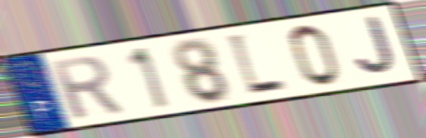0: (290, 22, 343, 89)
1: (126, 45, 172, 111)
8: (170, 36, 233, 105)
J: (353, 14, 399, 78)
L: (224, 32, 290, 99)
R: (45, 53, 127, 122)
